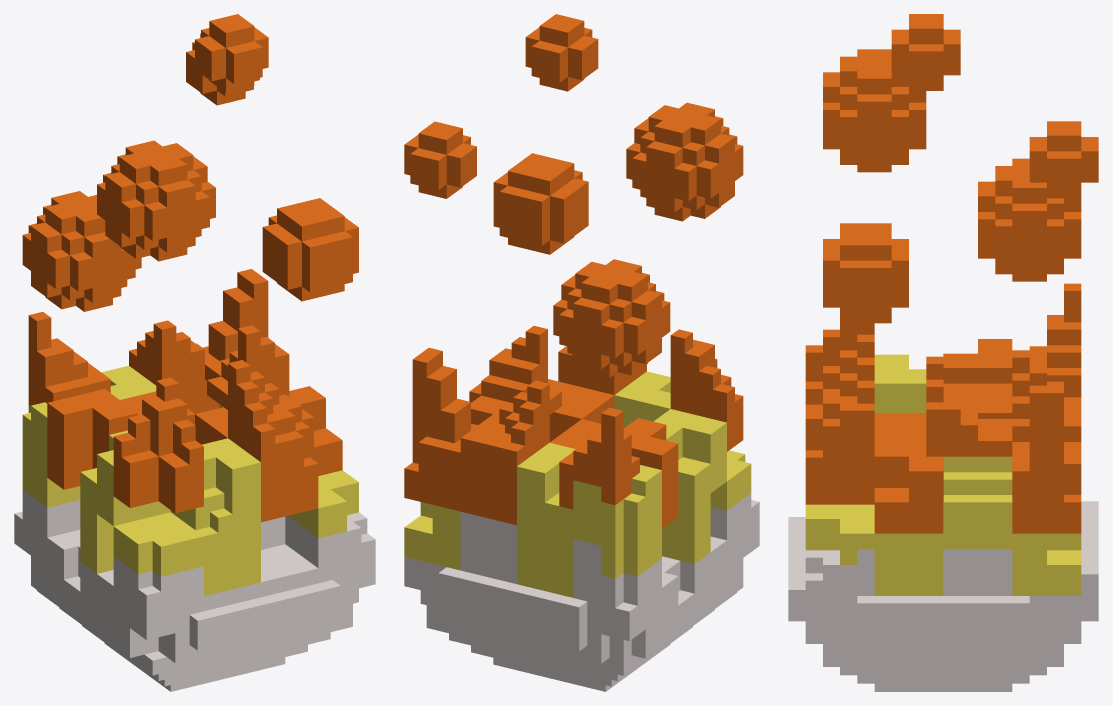
File: Fire.obj
The picture shows the model from 3 angles, left to right: view 1: azimuth 30°, elevation 25°; view 2: azimuth 150°, elevation 25°; view 3: azimuth 270°, elevation 25°; orthographic projection. The views are drawn at different scales.
Bounding box in the file's own units: 1.7 × 4.2 × 1.8.
1 material, 1 textured.
